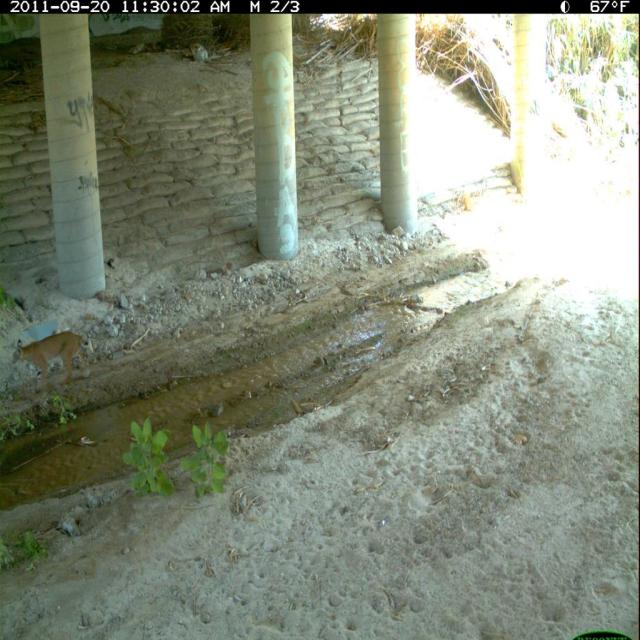bobcat: (10, 326, 94, 400)
